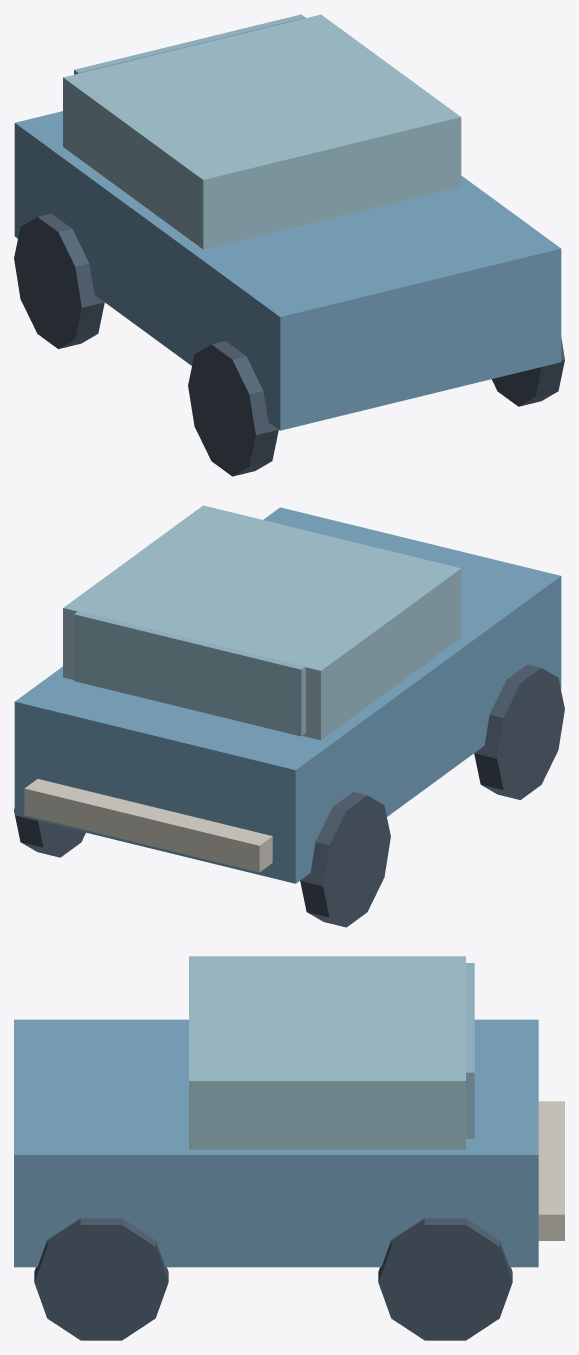
The model's file is TownCar_Blue.glb.
3 renders of one model, top to bottom at view 1: azimuth 30°, elevation 25°; view 2: azimuth 150°, elevation 25°; view 3: azimuth 270°, elevation 25°, orthographic.
Parts seen in each view (by area): view 1: Part_00, Part_01, Part_05, Part_04, Part_07, Part_02; view 2: Part_00, Part_01, Part_02, Part_03, Part_04, Part_05, Part_06; view 3: Part_00, Part_01, Part_06, Part_07, Part_03, Part_02.
Part boxes in pixels (x1,y1,x2,y2): Part_00: (14,111,561,430); Part_01: (63,14,461,249); Part_05: (188,341,278,476); Part_04: (14,213,104,348); Part_07: (491,338,564,406); Part_02: (74,14,305,74); Part_00: (14,507,561,883); Part_01: (63,505,461,740); Part_02: (74,611,305,736); Part_03: (24,779,272,872); Part_04: (300,792,390,927); Part_05: (474,664,564,799); Part_06: (14,808,85,857); Part_00: (14,1019,538,1267); Part_01: (189,956,465,1149); Part_06: (378,1218,512,1340); Part_07: (34,1218,168,1340); Part_03: (538,1101,564,1240); Part_02: (466,963,474,1138).
Size of the model in its own units: 2.42 by 1.88 by 3.78.
